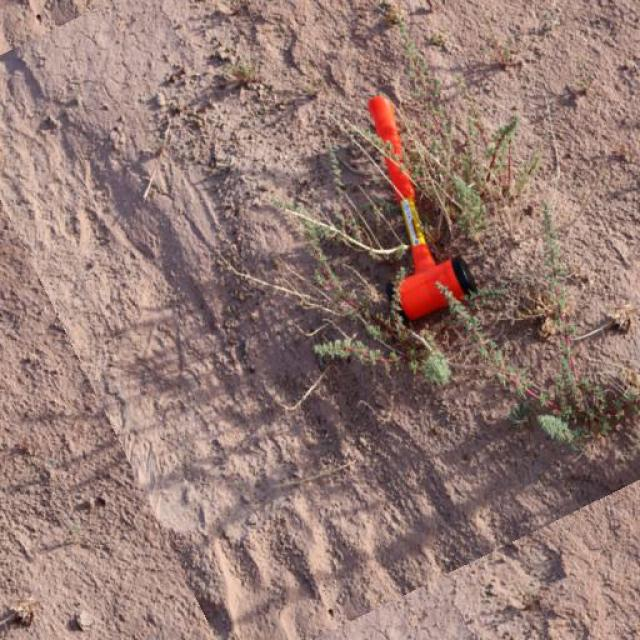mallet: (365, 92, 477, 322)
